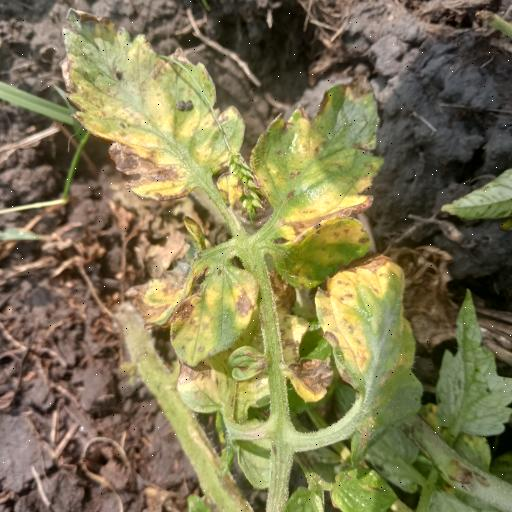Tomato_Brown_Spots: (56, 4, 249, 216), (253, 68, 392, 256), (317, 260, 428, 461), (134, 248, 260, 368)
